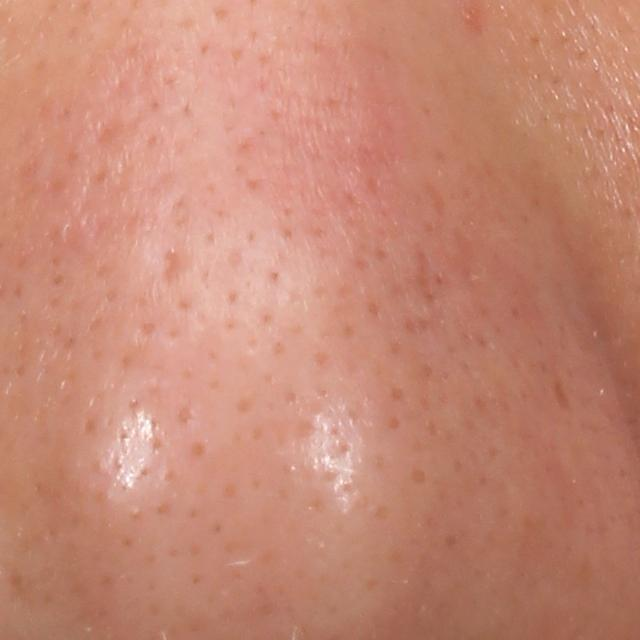atrophic_scar: (87, 109, 134, 153), (163, 243, 195, 285)
